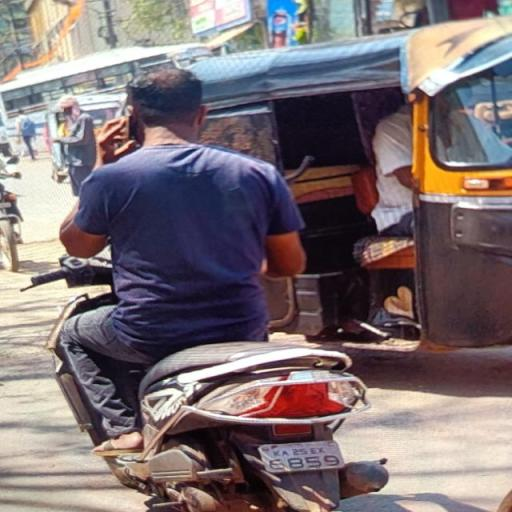using mobile: (94, 101, 146, 164)
